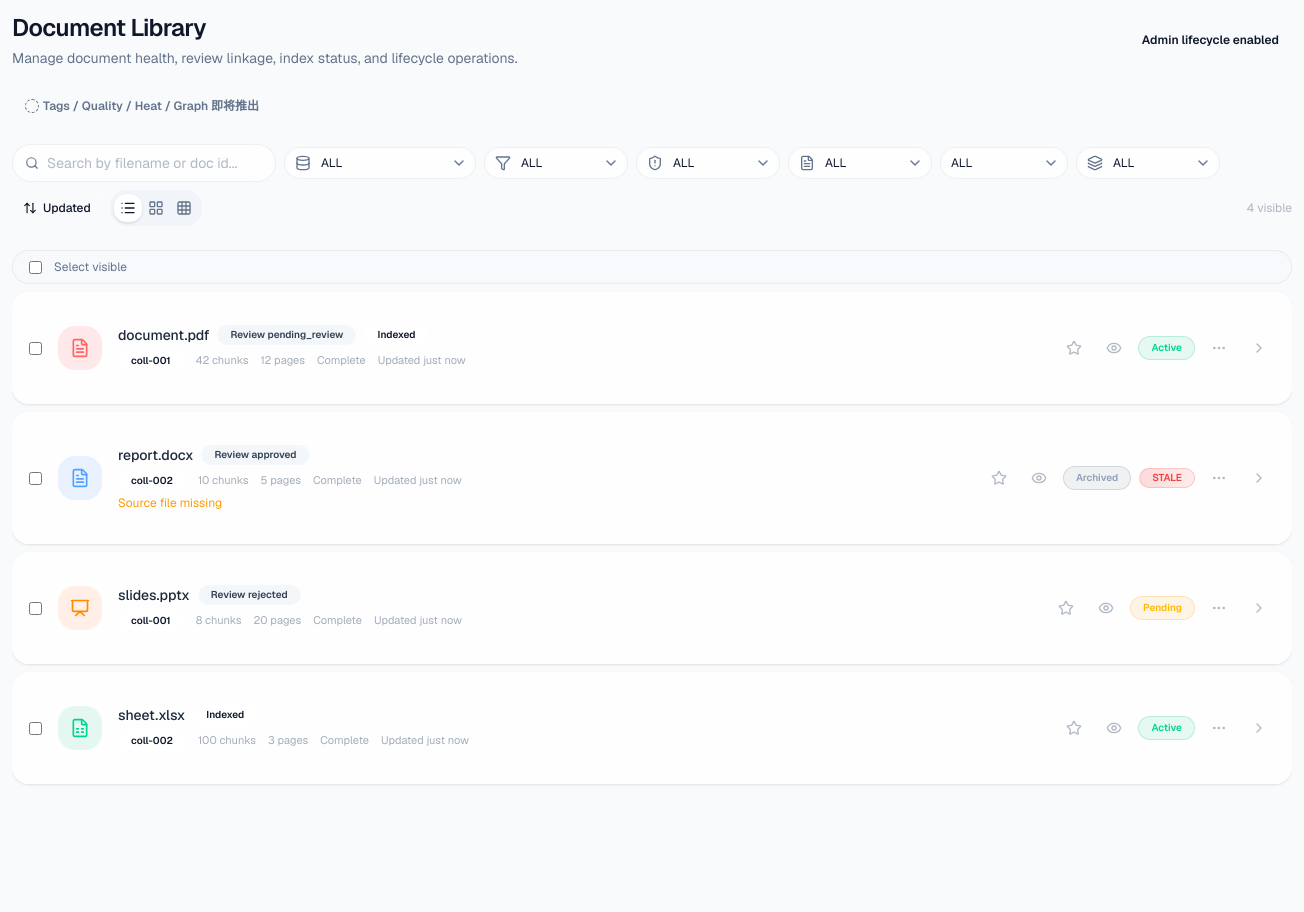
Scenario: DocumentsPage › Filters › filters by review status
Expected: the link "document.pdf" is shown, [118,325,209,345]
Click the 3rd dropdown labelled "ALL ▼" at (708, 163), box [636,147,780,179]
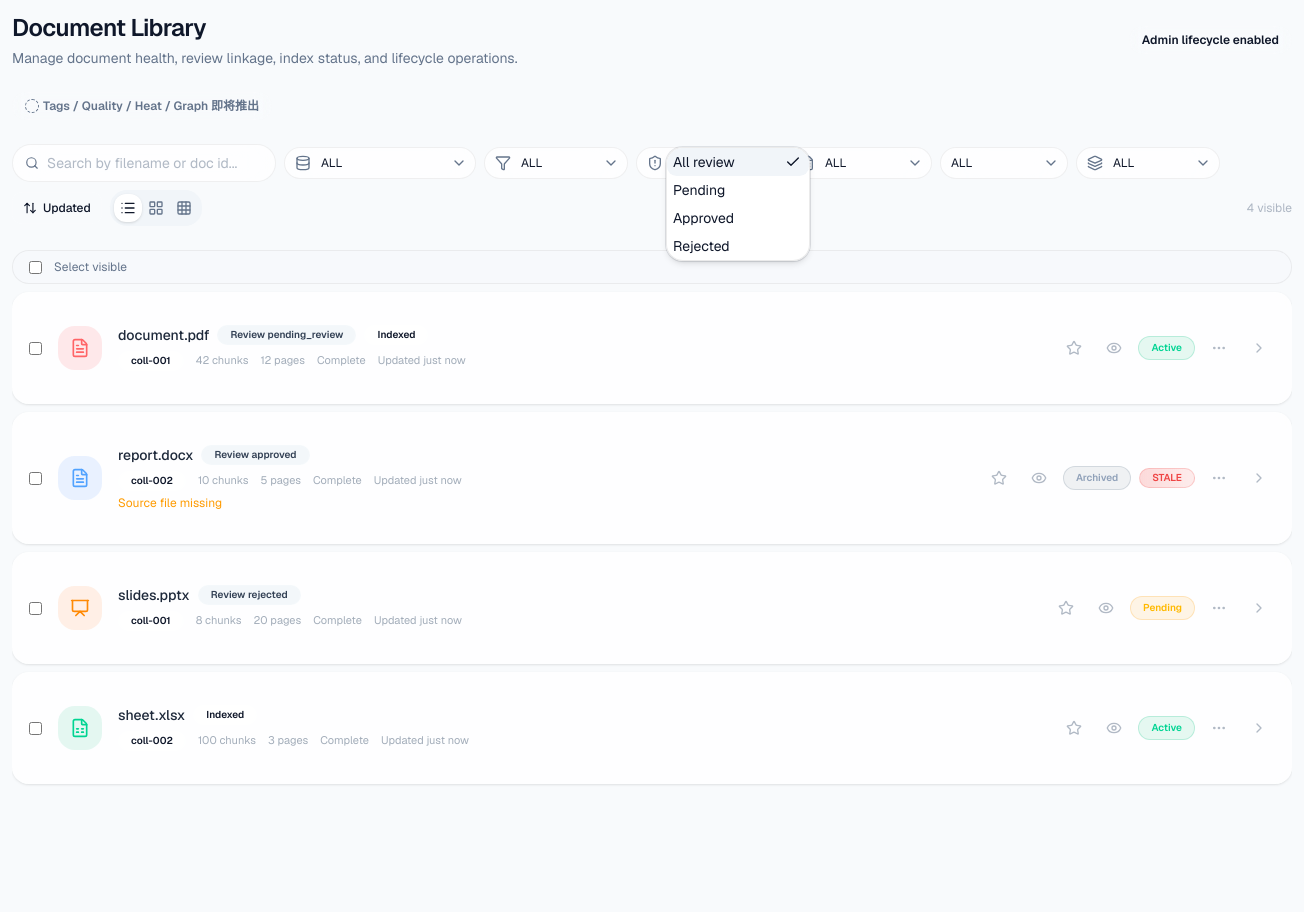
Result: the option "All review" is shown at [667,148,809,176]
Result: the option "Approved" is shown
Click the option "Approved" at (704, 218), box [673,209,734,227]
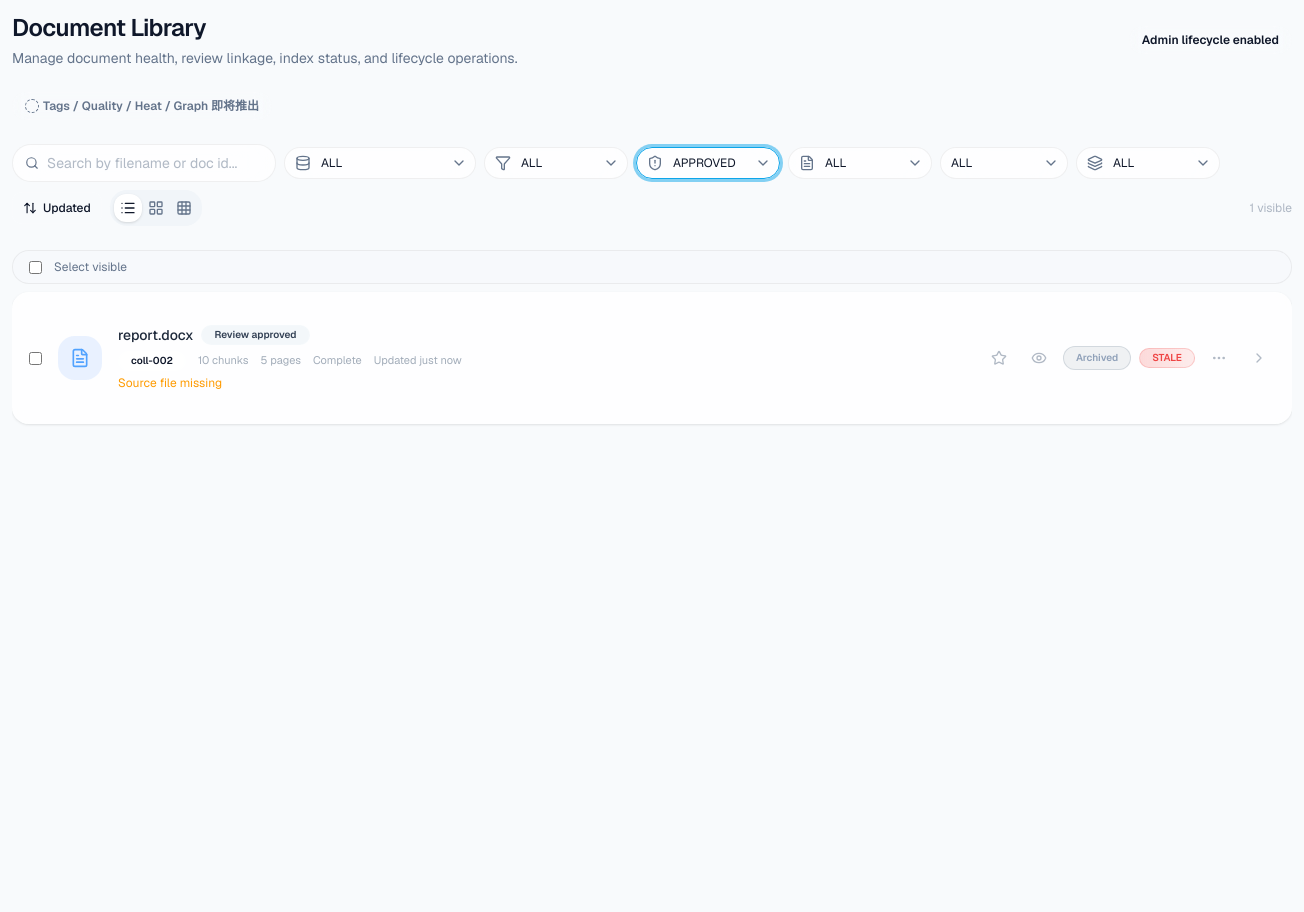
Expected: the link "report.docx" is shown, [118,325,193,345]
Result: the link "document.pdf" is gone
